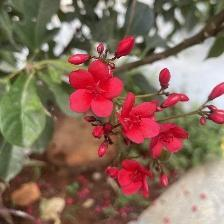jatropha: (65, 62, 127, 121)
